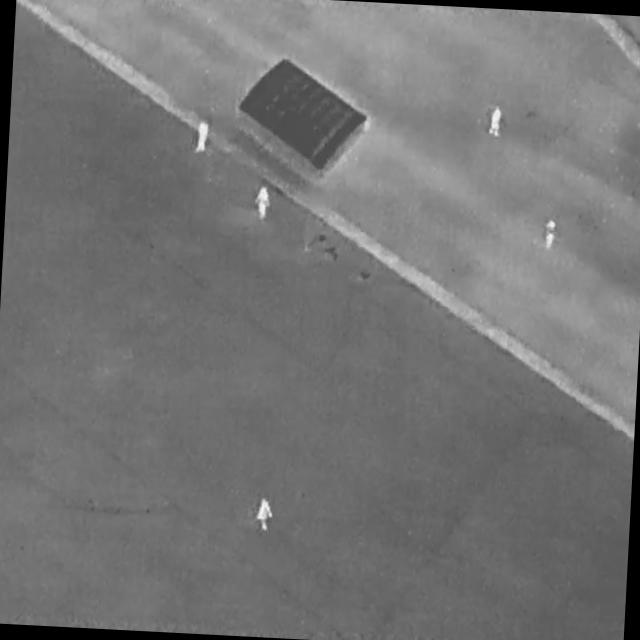person: (255, 494, 275, 534), (253, 183, 273, 221), (486, 104, 506, 142), (195, 118, 212, 155), (542, 218, 559, 253)
